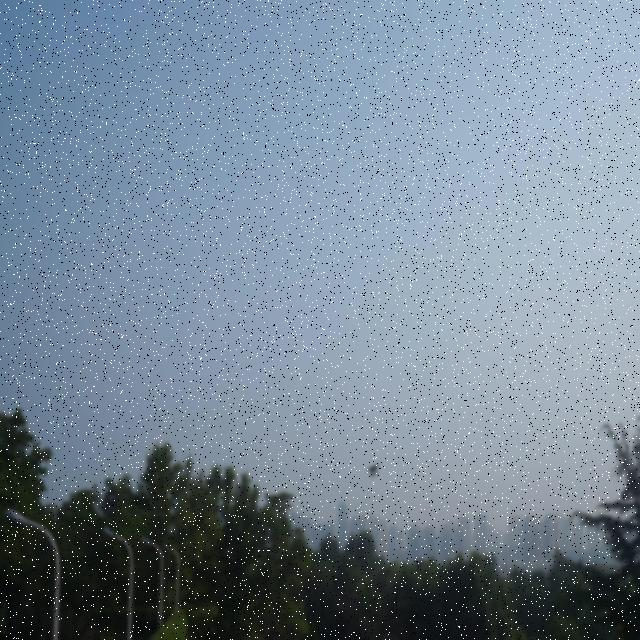UAV: (368, 462, 382, 478)
